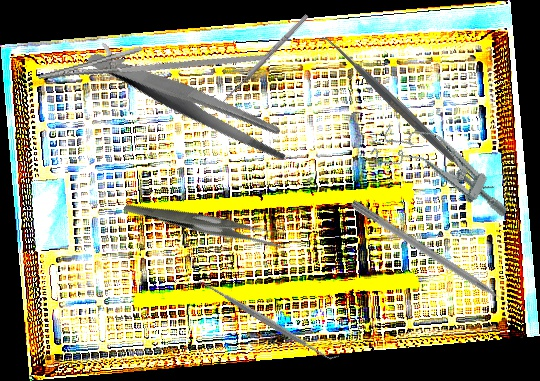Dressing Forceps: (84, 4, 299, 201), (122, 156, 289, 288)
Hook Surgical: (218, 12, 314, 110)
Needle Holder: (34, 9, 270, 108)
Pusher: (348, 198, 522, 317)
Spatula Surgical: (315, 24, 498, 203), (193, 271, 340, 370)
Speculum: (368, 111, 523, 227)
